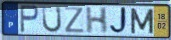H: (85, 7, 109, 35)
J: (109, 6, 130, 35)
M: (129, 7, 156, 35)
P: (19, 4, 41, 34)
U: (42, 5, 64, 34)
Z: (64, 7, 86, 34)
